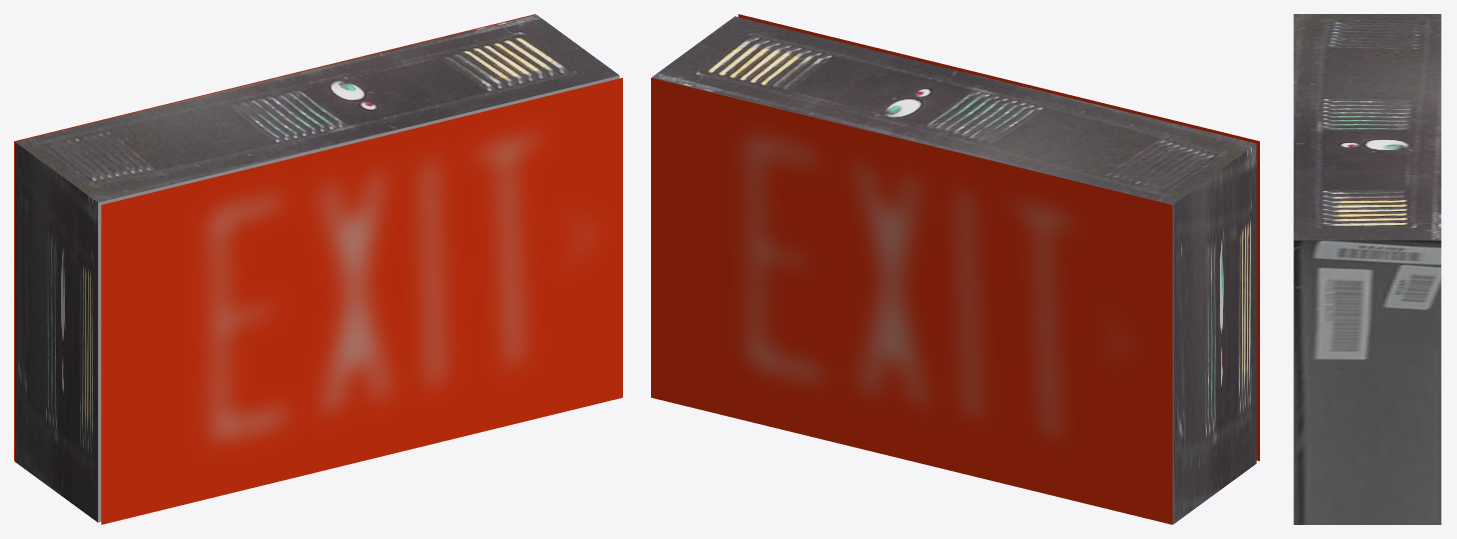
Rendered from MA_Exit.FBX.
The picture shows the model from 3 angles, left to right: view 1: azimuth 30°, elevation 25°; view 2: azimuth 150°, elevation 25°; view 3: azimuth 270°, elevation 25°; orthographic projection. The views are drawn at different scales.
Visible parts, largest first — view 1: MA_Exit; view 2: MA_Exit; view 3: MA_Exit.
Boxes of the visible parts, box(x1,y1,x2,y2) form: MA_Exit: box(14, 14, 622, 524); MA_Exit: box(651, 14, 1259, 524); MA_Exit: box(1293, 14, 1441, 524).
Size of the model in its own units: 55.97 by 32.81 by 16.17.
